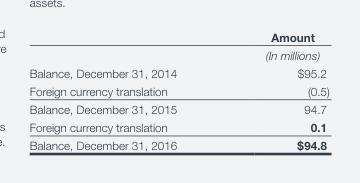table: (28, 29, 328, 151)
table column: (28, 29, 220, 151), (220, 29, 328, 151)
table column header: (28, 29, 328, 63)
table row: (28, 29, 328, 63), (28, 63, 328, 81), (28, 81, 328, 99), (28, 99, 328, 117), (28, 117, 328, 135), (28, 135, 328, 151)
